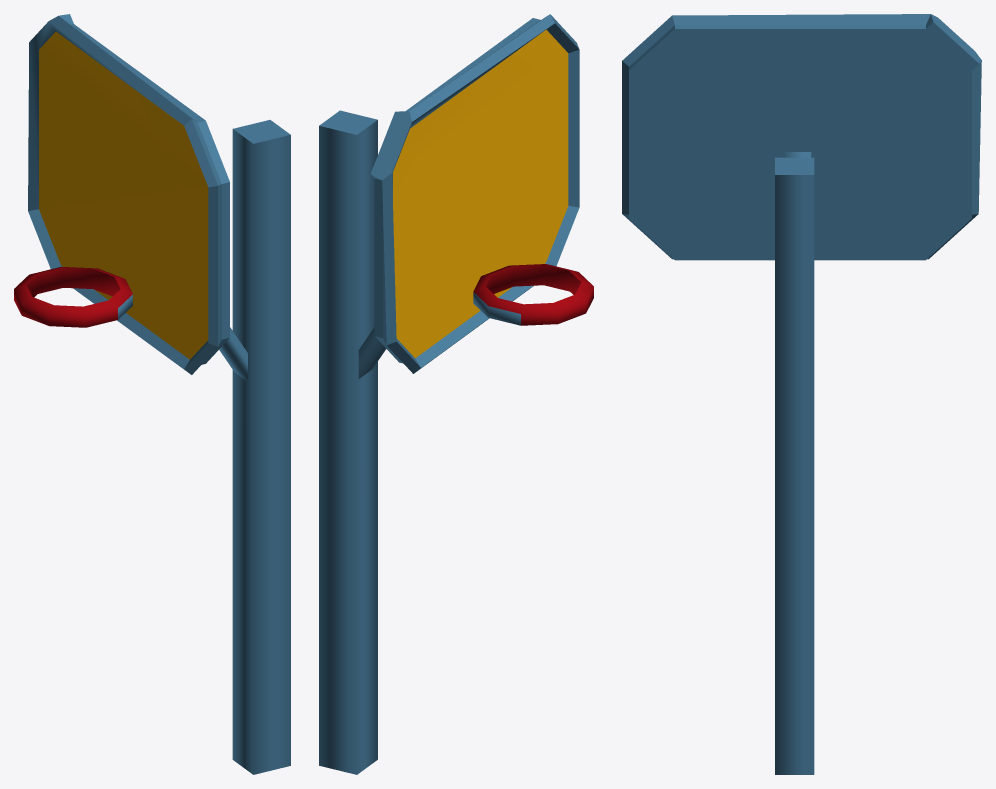
Rendered from SM_Basket.fbx.
3 renders of one model, left to right at view 1: azimuth 30°, elevation 25°; view 2: azimuth 150°, elevation 25°; view 3: azimuth 270°, elevation 25°, orthographic. The views are drawn at different scales.
Parts seen in each view (by area): view 1: SM_Basket; view 2: SM_Basket; view 3: SM_Basket.
Part boxes in pixels (x1,y1,x2,y2): SM_Basket: (14,14,290,774); SM_Basket: (319,14,593,774); SM_Basket: (622,14,981,774).
Bounding box in the file's own units: 177 × 482 × 227.
